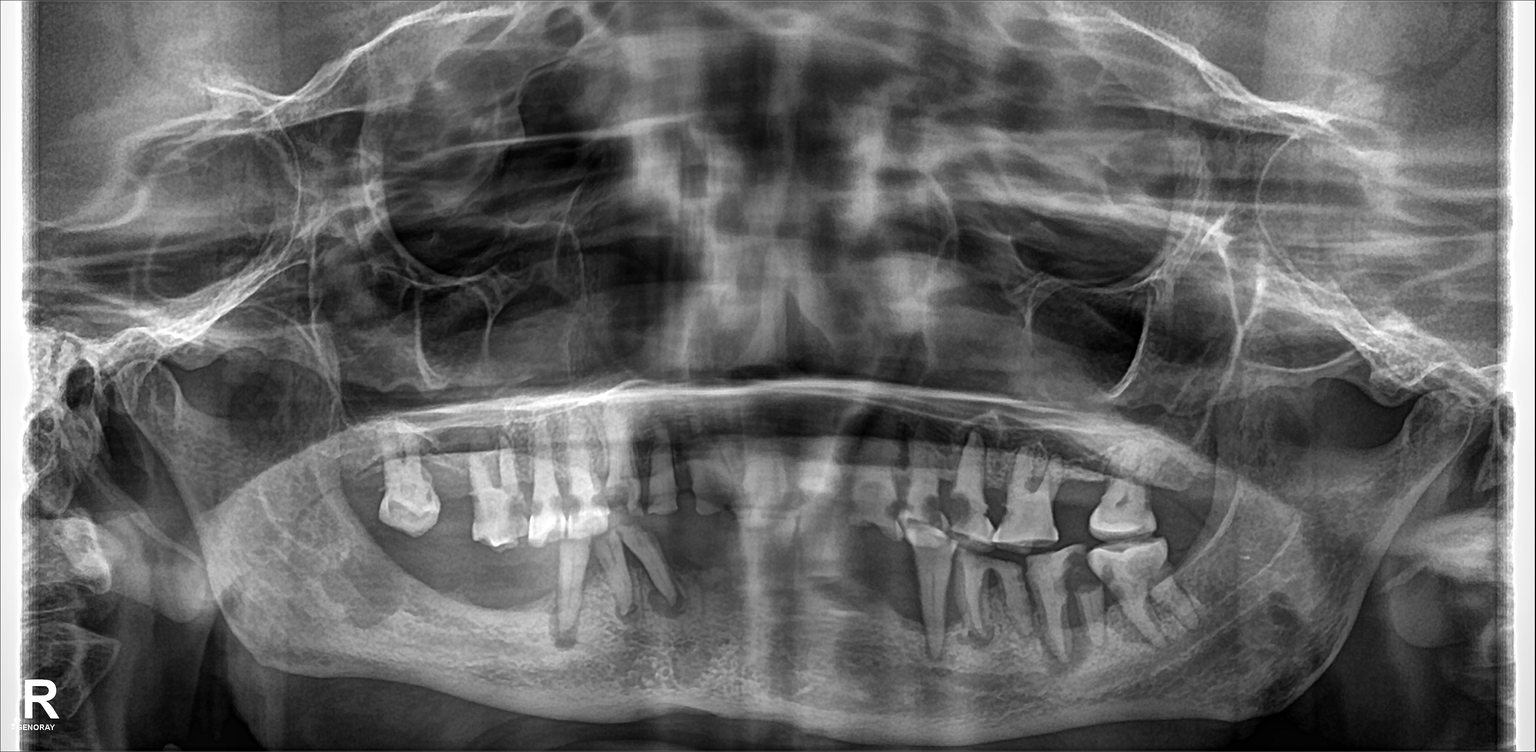Dental Caries: (1061, 557, 1099, 600), (602, 486, 635, 509), (507, 495, 541, 517), (926, 497, 948, 523), (551, 490, 578, 511), (953, 495, 967, 526)
Missing Tooth: (1156, 443, 1204, 524), (864, 542, 900, 643), (343, 441, 389, 517), (760, 530, 796, 626), (1050, 456, 1094, 533), (512, 540, 550, 627), (372, 536, 408, 626), (415, 534, 450, 621), (715, 538, 751, 621), (812, 536, 842, 624), (432, 450, 466, 527), (466, 545, 496, 631)
Periapical Lesion: (633, 575, 697, 626)
